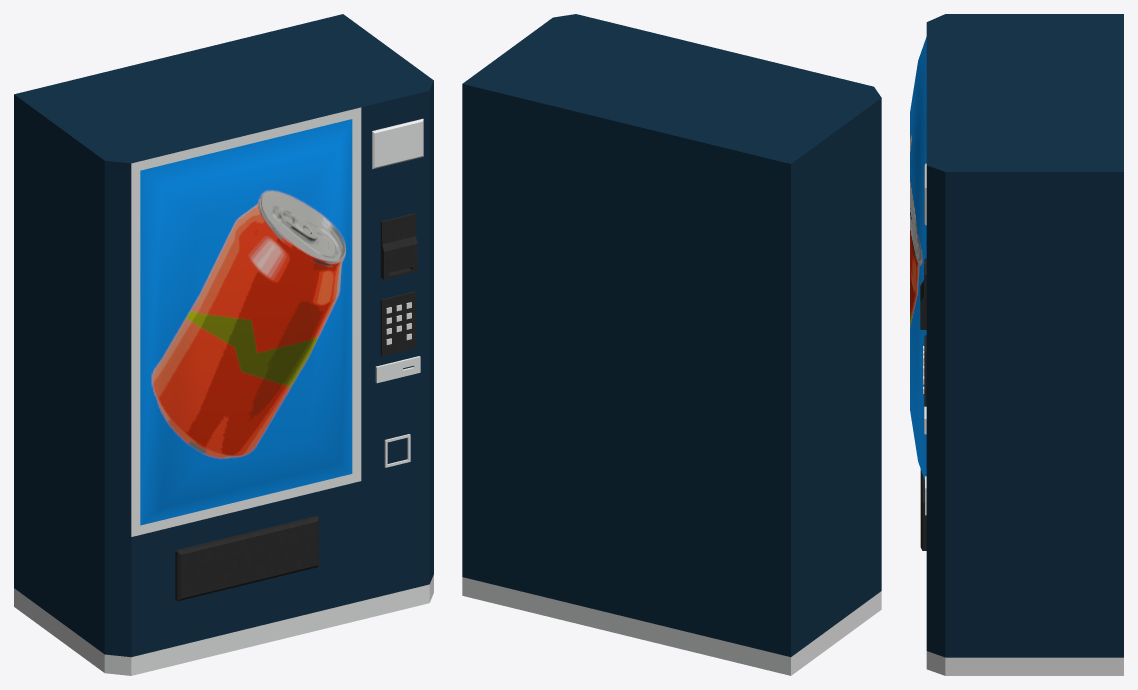
Rendered from VendingMachine.fbx.
3 views of the same model, side by side, from view 1: azimuth 30°, elevation 25°; view 2: azimuth 150°, elevation 25°; view 3: azimuth 270°, elevation 25° (orthographic).
Visible parts, largest first — view 1: Vendor; view 2: Vendor; view 3: Vendor.
Part boxes in pixels (x1,y1,x2,y2): Vendor: (14, 14, 433, 675); Vendor: (462, 14, 881, 675); Vendor: (910, 14, 1123, 675).
Size of the model in its own units: 135 by 201 by 77.23.
4 materials, 4 textured.
